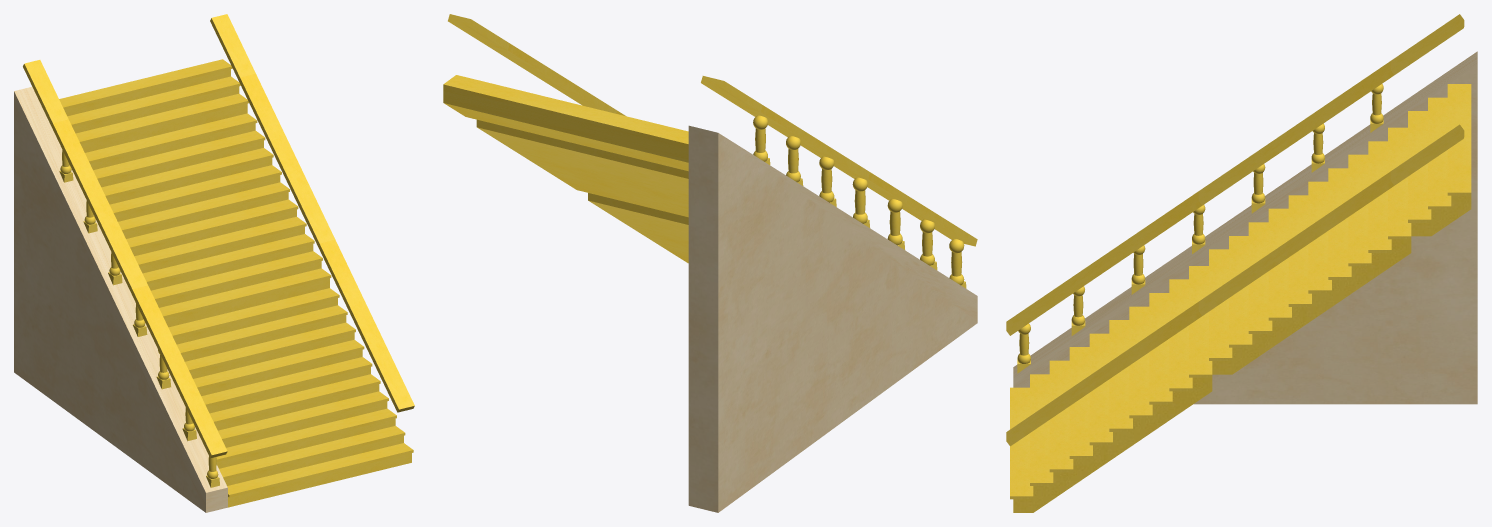
File: escaleras_interior.obj
3 views of the same model, side by side, from view 1: azimuth 30°, elevation 25°; view 2: azimuth 150°, elevation 25°; view 3: azimuth 270°, elevation 25° (orthographic). The views are drawn at different scales.
Visible parts, largest first — view 1: pasted__polySurface161 group8; view 2: pasted__polySurface161 group8; view 3: pasted__polySurface161 group8.
Part boxes in pixels (x1,y1,x2,y2): pasted__polySurface161 group8: [14, 14, 414, 512]; pasted__polySurface161 group8: [443, 14, 977, 512]; pasted__polySurface161 group8: [1006, 14, 1477, 512].
Bounding box in the file's own units: 7.46 × 10.84 × 12.21.
